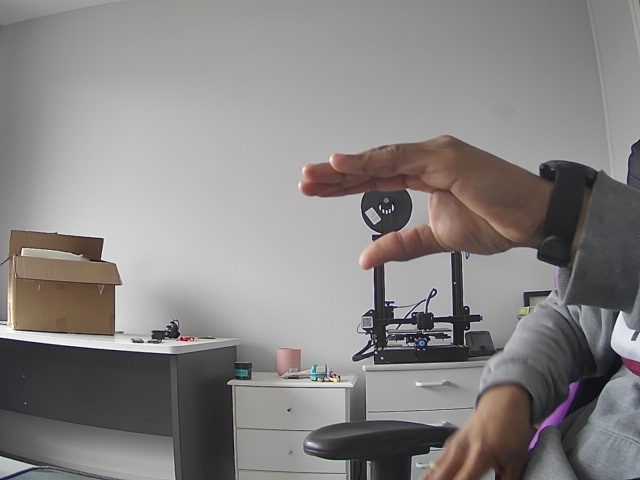No: (267, 120, 600, 285)
